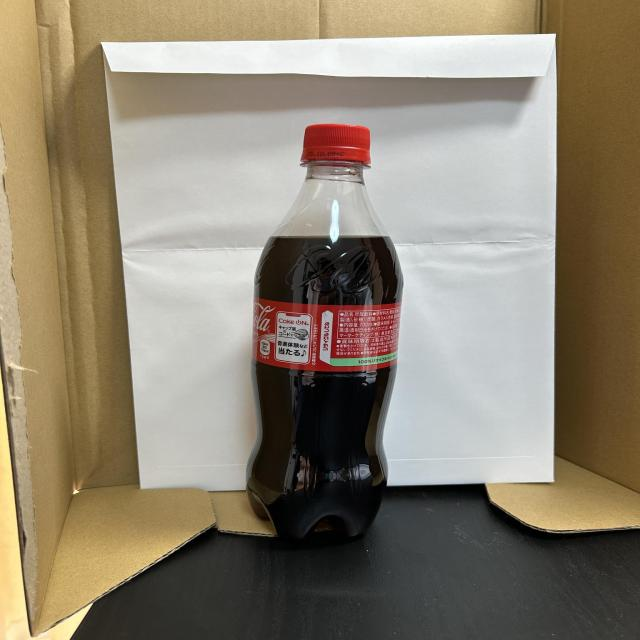high: (246, 124, 403, 540)
